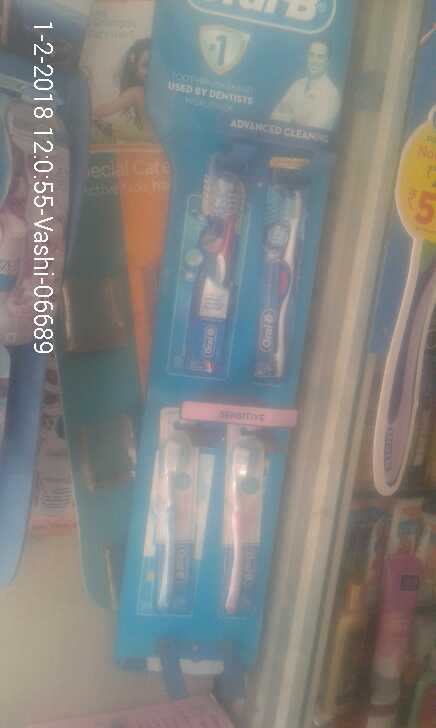oralb: (186, 154, 244, 385), (264, 181, 309, 380), (217, 440, 266, 618), (156, 439, 191, 622)
